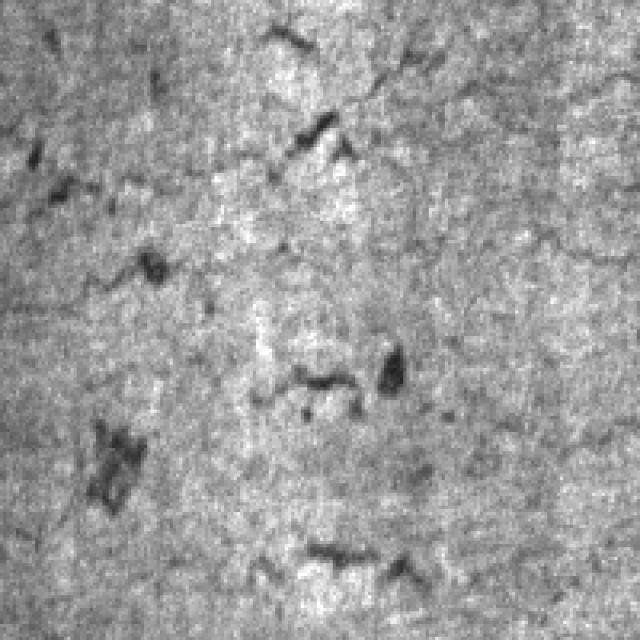crazing: (147, 324, 483, 598), (6, 80, 400, 301), (419, 7, 637, 282)
